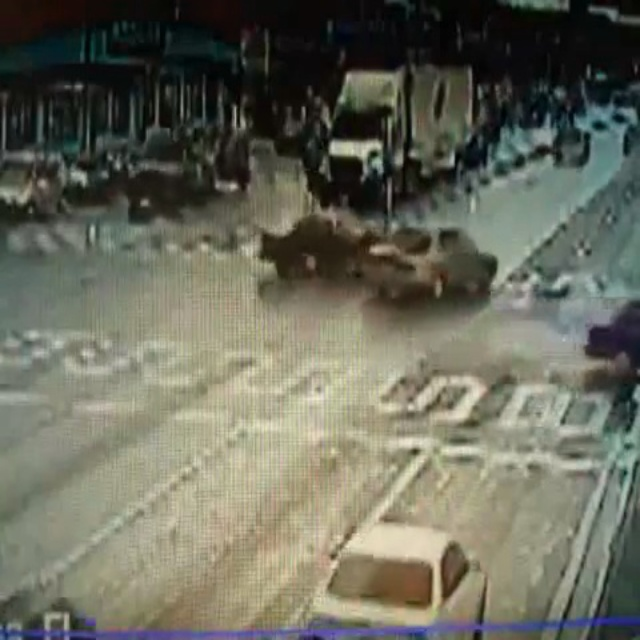acc: (246, 196, 502, 320)
